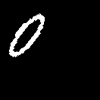chain: (9, 14, 43, 56)
